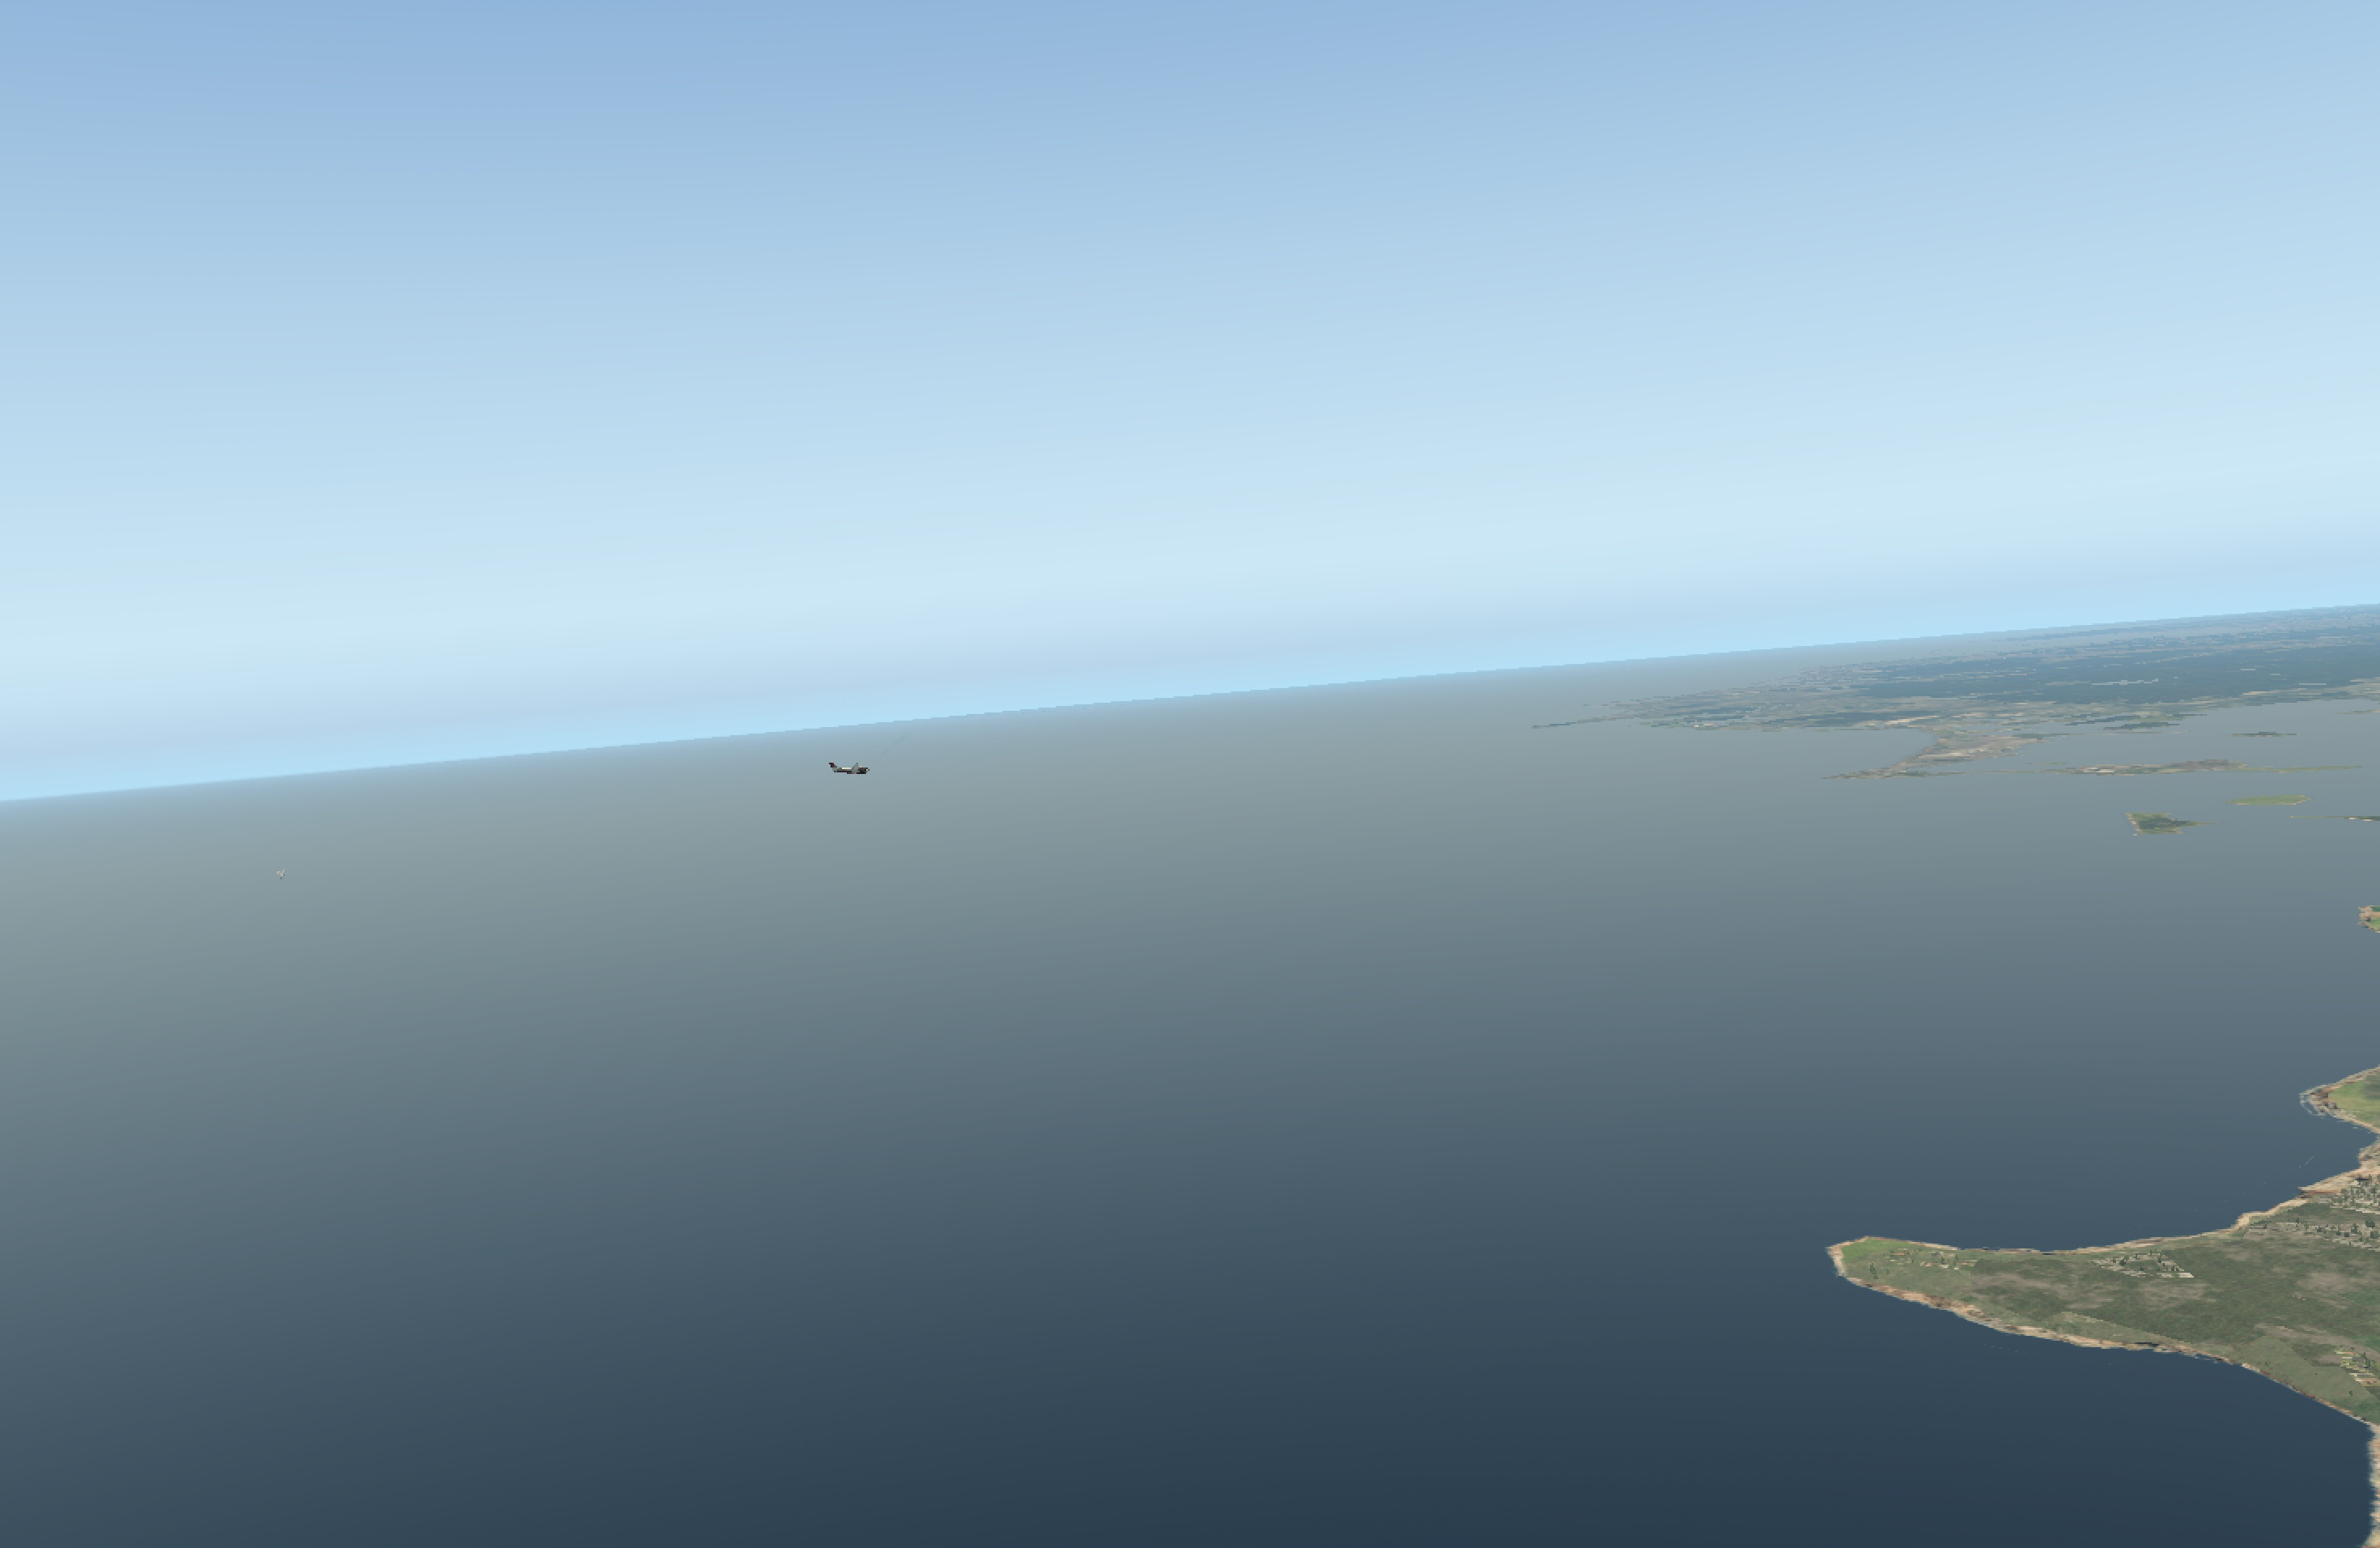aircraft: (829, 762, 886, 783)
